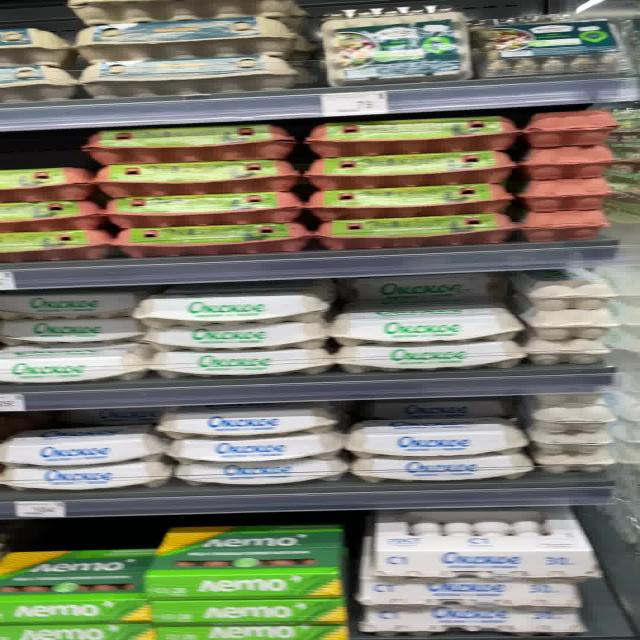egg box: (372, 497, 602, 577), (145, 513, 350, 598), (467, 11, 623, 84), (311, 13, 471, 84), (344, 573, 596, 614), (88, 145, 300, 188), (109, 219, 324, 261), (78, 50, 298, 91), (332, 332, 537, 375), (324, 409, 526, 452), (62, 12, 288, 49), (353, 602, 592, 636), (142, 310, 328, 352), (296, 305, 530, 338), (292, 149, 506, 185), (64, 125, 294, 157), (126, 287, 337, 321), (296, 115, 500, 150), (102, 189, 303, 224), (154, 397, 340, 432), (356, 448, 550, 480), (311, 213, 523, 242), (147, 345, 339, 377), (2, 427, 174, 462), (7, 458, 158, 494), (134, 599, 358, 621), (301, 191, 513, 213), (161, 432, 340, 455), (178, 463, 348, 486)
